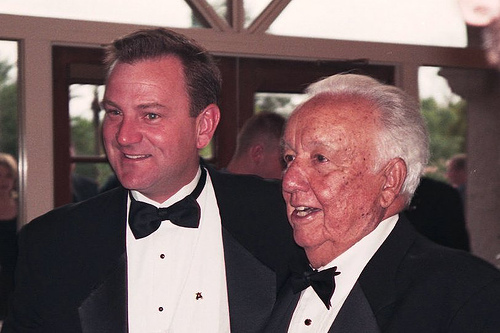without_mask: (279, 91, 408, 249), (92, 54, 222, 194)
